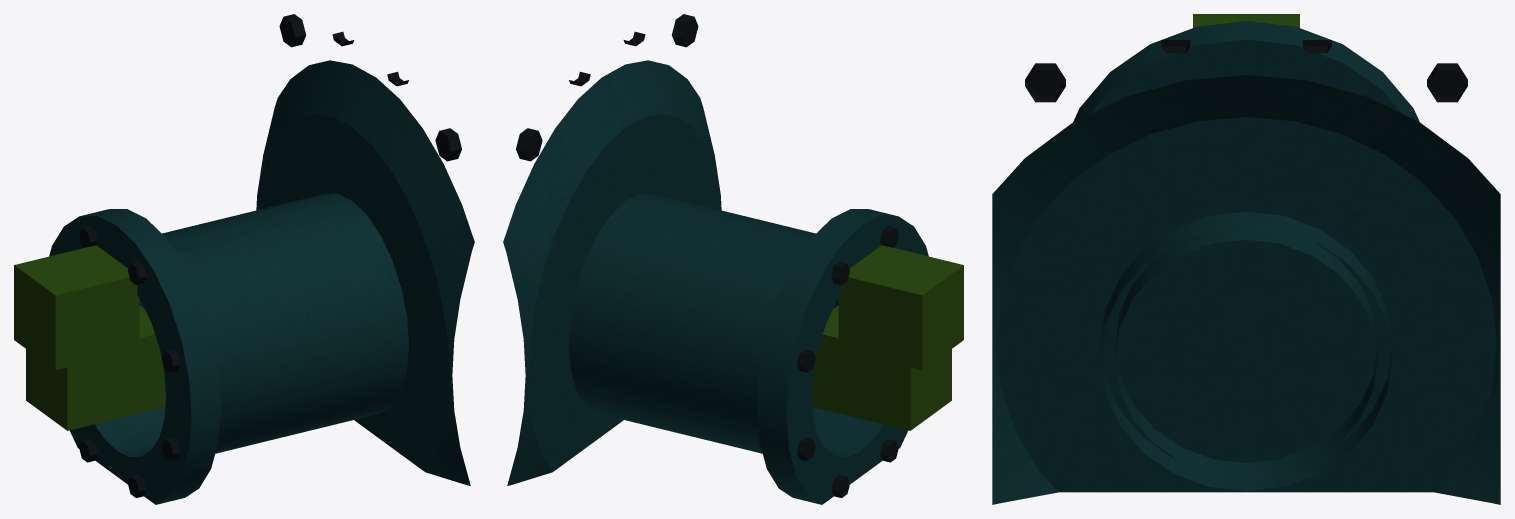
File: cell_24.obj
The picture shows the model from 3 angles, left to right: view 1: azimuth 30°, elevation 25°; view 2: azimuth 150°, elevation 25°; view 3: azimuth 270°, elevation 25°; orthographic projection. The views are drawn at different scales.
Visible parts, largest first — view 1: cell_24; view 2: cell_24; view 3: cell_24.
Boxes of the visible parts, x1=… form: cell_24: x1=14, y1=14, x2=474, y2=504; cell_24: x1=503, y1=14, x2=963, y2=504; cell_24: x1=992, y1=14, x2=1500, y2=504.
Size of the model in its own units: 1 by 1 by 1.
